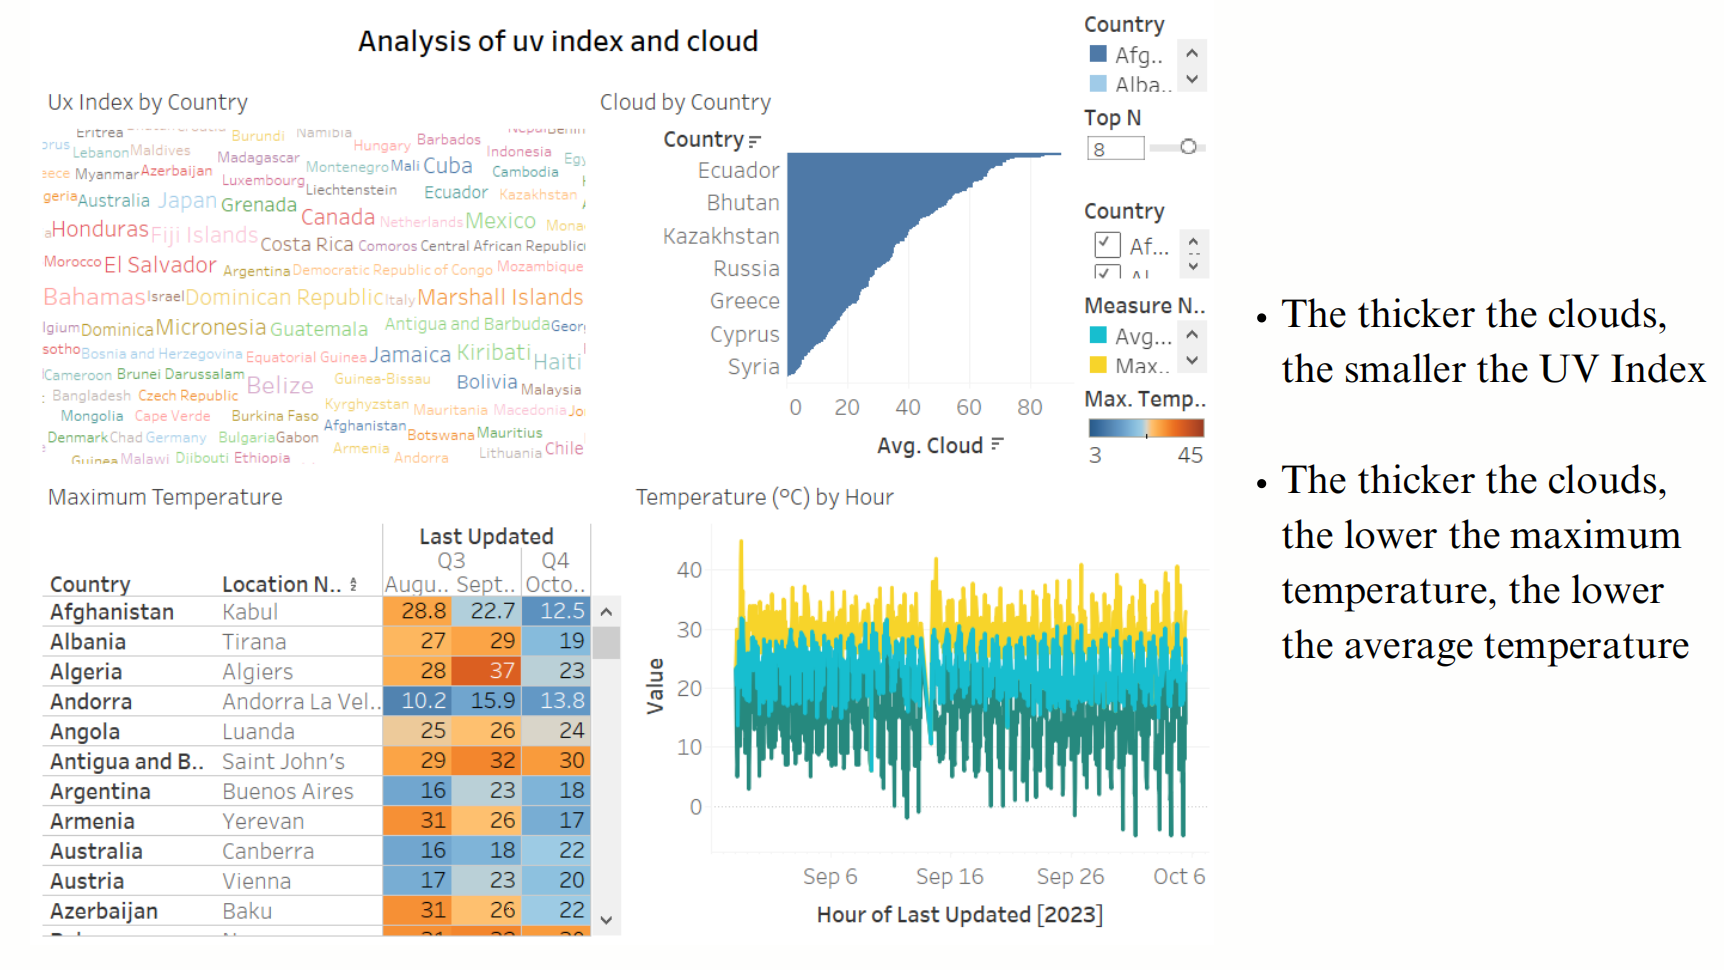

The page's visual inventory and layout, read from the dashboard file:
{"tool":"tableau","page":{"name":"Analysis of uv index and cloud","canvas":[1000,800],"ordinal":2},"visuals":[{"type":"text","box":[8,8,871,60.6]},{"type":"legend","title":"Ux Index by Country","param":"[federated.0kef0cc193risa12up4x704nz458].[none:country:nk]","box":[879,8,113,78.2]},{"type":"worksheet","title":"Ux Index by Country","mark":"Text","box":[8,68.6,462,330.6]},{"type":"worksheet","title":"Cloud by Country","mark":"Automatic","rows":["country"],"cols":["cloud"],"box":[470,68.6,409,330.6]},{"type":"parameter","param":"[Parameters].[Parameter 1]","box":[879,86.2,113,78.2]},{"type":"filter","title":"Temperature (°C) by Hour","param":"[federated.0kef0cc193risa12up4x704nz458].[none:country:nk]","box":[879,164.5,113,78.2]},{"type":"legend","title":"Temperature (°C) by Hour","param":"[federated.0kef0cc193risa12up4x704nz458].[:Measure Names]","box":[879,242.7,113,78.2]},{"type":"legend","title":"Maximum Temperature","param":"[federated.0kef0cc193risa12up4x704nz458].[max:temperature_celsius:qk]","box":[879,320.9,113,78.3]},{"type":"worksheet","title":"Maximum Temperature","mark":"Square","rows":["country","location_name"],"cols":["last_updated","last_updated","last_updated"],"box":[8,399.2,492,392.8]},{"type":"worksheet","title":"Temperature (°C) by Hour","mark":"Automatic","cols":["last_updated"],"box":[500,399.2,492,392.8]}]}

Visuals, with their boxes on the page's 1000x800 design canvas (x1, y1, x2, y2). These are canvas units, not pixel positions in the 1724x970 screenshot, which may show the page scaled, cropped or inside an application window:
text: l=8, t=8, r=879, b=69
"Ux Index by Country" legend: l=879, t=8, r=992, b=86
"Ux Index by Country" worksheet (Text marks): l=8, t=69, r=470, b=399
"Cloud by Country" worksheet: l=470, t=69, r=879, b=399
parameter: l=879, t=86, r=992, b=164
"Temperature (°C) by Hour" filter: l=879, t=164, r=992, b=243
"Temperature (°C) by Hour" legend: l=879, t=243, r=992, b=321
"Maximum Temperature" legend: l=879, t=321, r=992, b=399
"Maximum Temperature" worksheet (Square marks): l=8, t=399, r=500, b=792
"Temperature (°C) by Hour" worksheet: l=500, t=399, r=992, b=792
